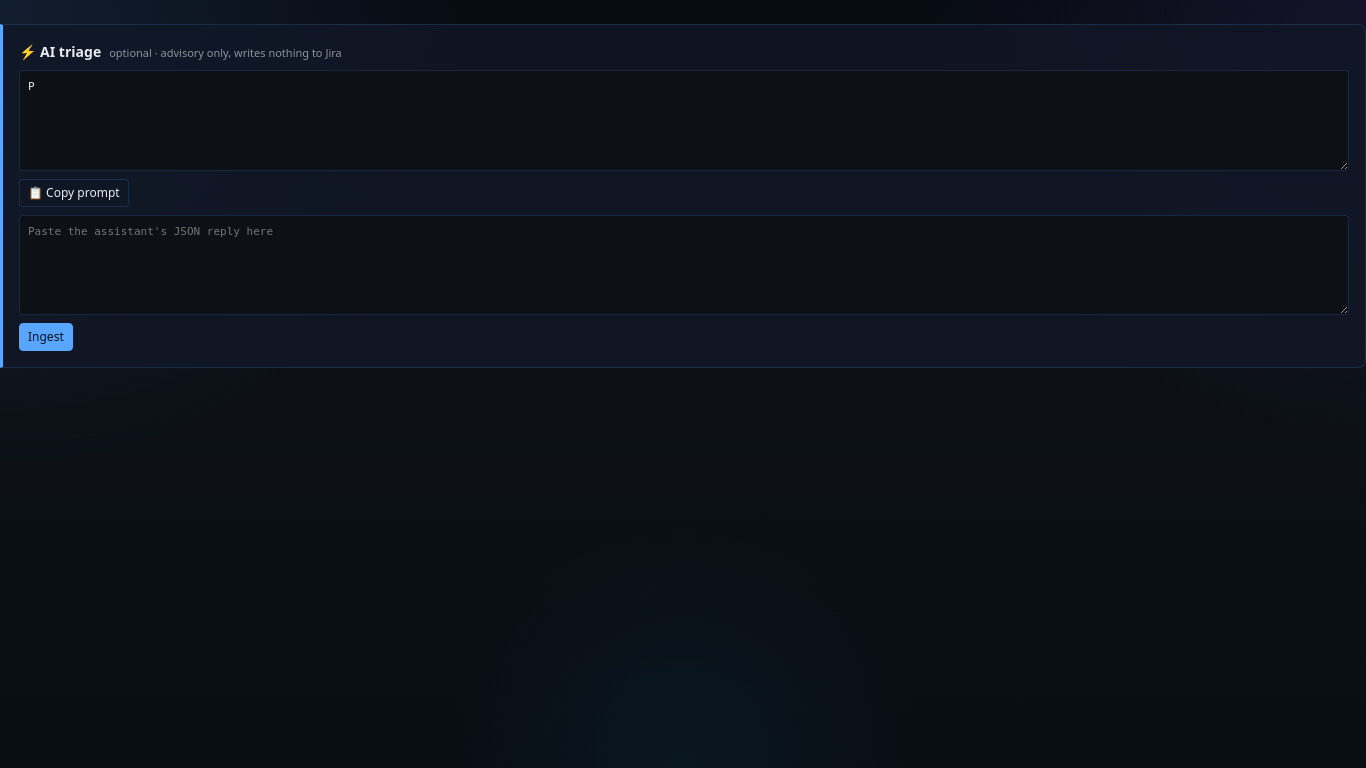
it: ReportAiPanel › confirms a prompt copy by flipping the button label to ✓ Copied!
Click the button "📋 Copy prompt" at (74, 192), box [19,178,129,206]
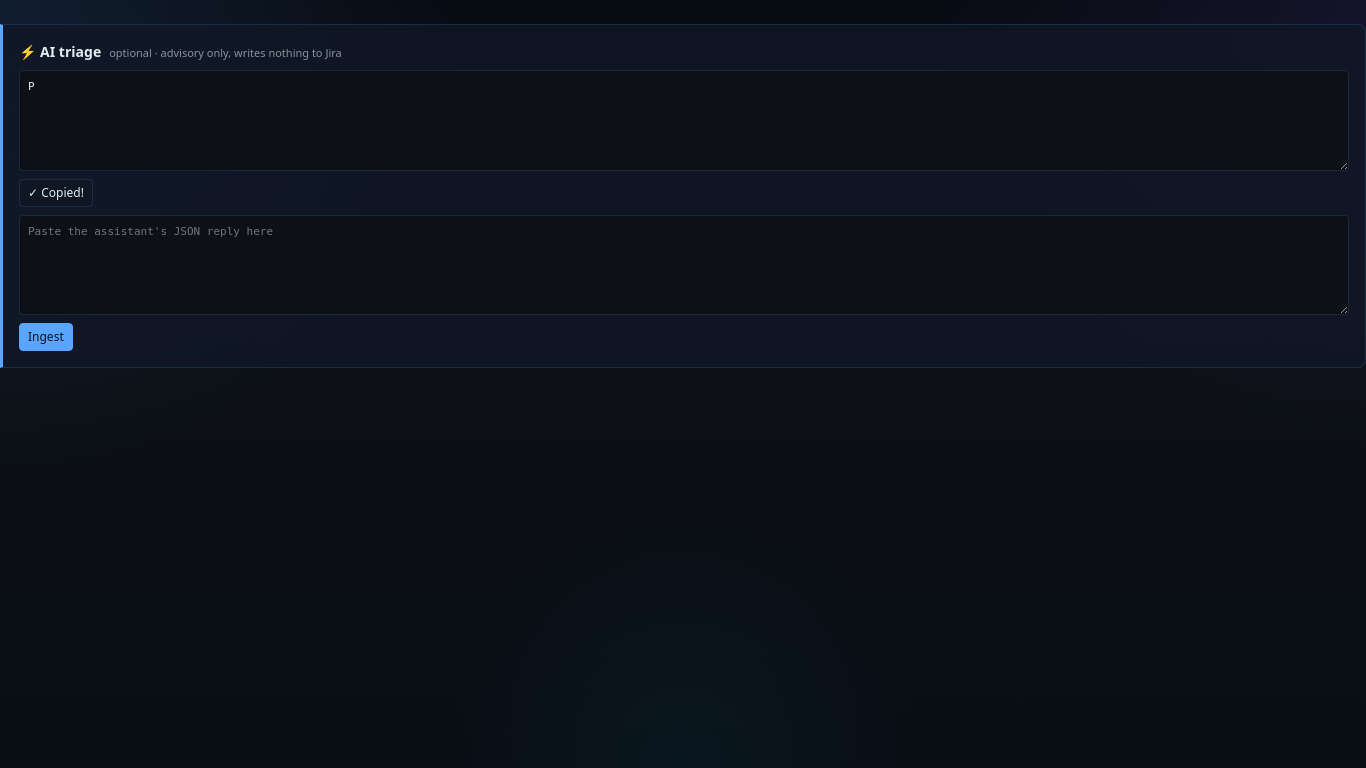
Now the button "✓ Copied!" is shown, box [19,178,93,206]
